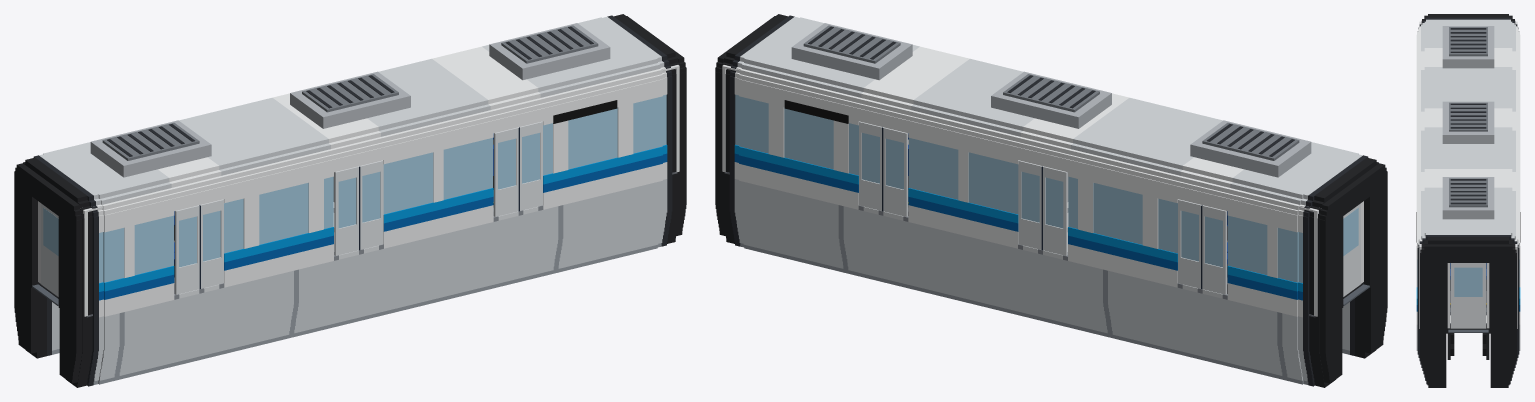
Rendered from tokyo_car.obj.
3 views of the same model, side by side, from view 1: azimuth 30°, elevation 25°; view 2: azimuth 150°, elevation 25°; view 3: azimuth 270°, elevation 25° (orthographic). The views are drawn at different scales.
Visible parts, largest first — view 1: SHELL, SHELL_roof, SHELL_diaphragm, EXTERNAL_DOOR_10_CG_DR2_TOGGLE_TL_-0.54_X, EXTERNAL_DOOR_4_CG_DR1_TOGGLE_TL_-0.54_X, EXTERNAL_DOOR_16_CG_DR3_TOGGLE_TL_-0.54_X, EXTERNAL_DOOR_11_CG_DR2_TOGGLE_TL_0.54_X, EXTERNAL_DOOR_5_CG_DR1_TOGGLE_TL_0.54_X, EXTERNAL_DOOR_17_CG_DR3_TOGGLE_TL_0.54_X, CONNECTING_DOOR_1_CG_CR_TOGGLE_TL_0.98_Z, SHELL_end, SHELL_sign; view 2: SHELL, SHELL_roof, SHELL_diaphragm, EXTERNAL_DOOR_13_CG_DL2_TOGGLE_TL_-0.54_X, EXTERNAL_DOOR_7_CG_DL1_TOGGLE_TL_-0.54_X, EXTERNAL_DOOR_19_CG_DL3_TOGGLE_TL_-0.54_X, EXTERNAL_DOOR_14_CG_DL2_TOGGLE_TL_0.54_X, EXTERNAL_DOOR_8_CG_DL1_TOGGLE_TL_0.54_X, EXTERNAL_DOOR_20_CG_DL3_TOGGLE_TL_0.54_X, CONNECTING_DOOR_1_CG_CR_TOGGLE_TL_0.98_Z, SHELL_end, SHELL_sign; view 3: SHELL, SHELL_diaphragm, SHELL_roof, CONNECTING_DOOR_2_CG_CF_TOGGLE_TL_0.98_Z, SHELL_end, BOGEY_FRONT, SHELL_gangway.
Boxes of the visible parts, x1=… form: SHELL: x1=23, y1=14, x2=680, y2=387; SHELL_roof: x1=90, y1=23, x2=610, y2=177; SHELL_diaphragm: x1=14, y1=16, x2=686, y2=383; EXTERNAL_DOOR_10_CG_DR2_TOGGLE_TL_-0.54_X: x1=334, y1=166, x2=360, y2=255; EXTERNAL_DOOR_4_CG_DR1_TOGGLE_TL_-0.54_X: x1=175, y1=205, x2=200, y2=294; EXTERNAL_DOOR_16_CG_DR3_TOGGLE_TL_-0.54_X: x1=494, y1=127, x2=519, y2=216; EXTERNAL_DOOR_11_CG_DR2_TOGGLE_TL_0.54_X: x1=359, y1=160, x2=383, y2=249; EXTERNAL_DOOR_5_CG_DR1_TOGGLE_TL_0.54_X: x1=200, y1=199, x2=223, y2=288; EXTERNAL_DOOR_17_CG_DR3_TOGGLE_TL_0.54_X: x1=519, y1=121, x2=542, y2=210; CONNECTING_DOOR_1_CG_CR_TOGGLE_TL_0.98_Z: x1=41, y1=203, x2=58, y2=296; SHELL_end: x1=38, y1=65, x2=679, y2=316; SHELL_sign: x1=553, y1=100, x2=617, y2=123; SHELL: x1=721, y1=14, x2=1378, y2=387; SHELL_roof: x1=791, y1=23, x2=1311, y2=177; SHELL_diaphragm: x1=715, y1=16, x2=1387, y2=383; EXTERNAL_DOOR_13_CG_DL2_TOGGLE_TL_-0.54_X: x1=1041, y1=166, x2=1067, y2=255; EXTERNAL_DOOR_7_CG_DL1_TOGGLE_TL_-0.54_X: x1=1201, y1=205, x2=1226, y2=294; EXTERNAL_DOOR_19_CG_DL3_TOGGLE_TL_-0.54_X: x1=882, y1=127, x2=907, y2=216; EXTERNAL_DOOR_14_CG_DL2_TOGGLE_TL_0.54_X: x1=1018, y1=160, x2=1042, y2=249; EXTERNAL_DOOR_8_CG_DL1_TOGGLE_TL_0.54_X: x1=1178, y1=199, x2=1201, y2=288; EXTERNAL_DOOR_20_CG_DL3_TOGGLE_TL_0.54_X: x1=859, y1=121, x2=882, y2=210; CONNECTING_DOOR_1_CG_CR_TOGGLE_TL_0.98_Z: x1=1343, y1=203, x2=1360, y2=296; SHELL_end: x1=722, y1=65, x2=1363, y2=316; SHELL_sign: x1=784, y1=100, x2=848, y2=123; SHELL: x1=1416, y1=14, x2=1520, y2=387; SHELL_diaphragm: x1=1420, y1=15, x2=1516, y2=385; SHELL_roof: x1=1442, y1=26, x2=1494, y2=219; CONNECTING_DOOR_2_CG_CF_TOGGLE_TL_0.98_Z: x1=1450, y1=263, x2=1486, y2=328; SHELL_end: x1=1419, y1=21, x2=1517, y2=328; BOGEY_FRONT: x1=1447, y1=332, x2=1489, y2=359; SHELL_gangway: x1=1448, y1=329, x2=1488, y2=332.
Size of the model in its own units: 15.32 by 4.9 by 2.92.
Materials: 1 (1 with a texture image).
